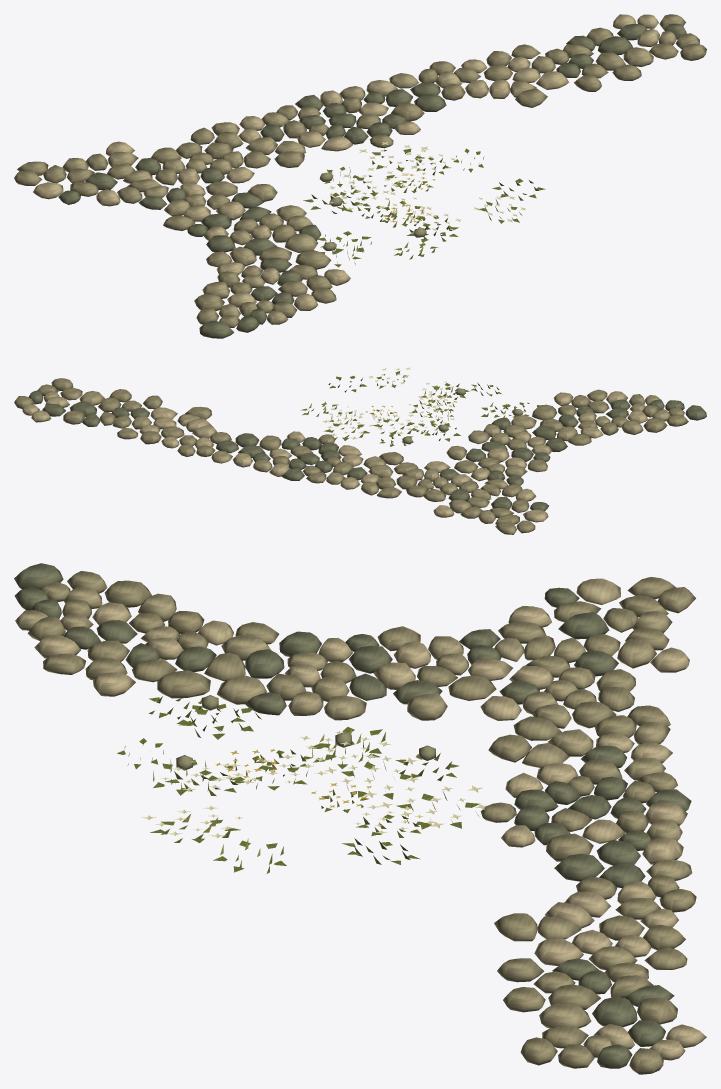
File: detail-patch-03-02.fbx
3 views of the same model, one above another, from view 1: azimuth 30°, elevation 25°; view 2: azimuth 150°, elevation 25°; view 3: azimuth 270°, elevation 25° (orthographic). The views are drawn at different scales.
Parts seen in each view (by area): view 1: detail-patch-03-02__Geometry; view 2: detail-patch-03-02__Geometry; view 3: detail-patch-03-02__Geometry.
Boxes of the visible parts, x1,y1,x2,y2 form: detail-patch-03-02__Geometry: (14,14,706,338); detail-patch-03-02__Geometry: (14,367,706,534); detail-patch-03-02__Geometry: (14,563,706,1074).
Bounding box in the file's own units: 9.06 × 0.1218 × 5.26.
Materials: 1 (1 with a texture image).
